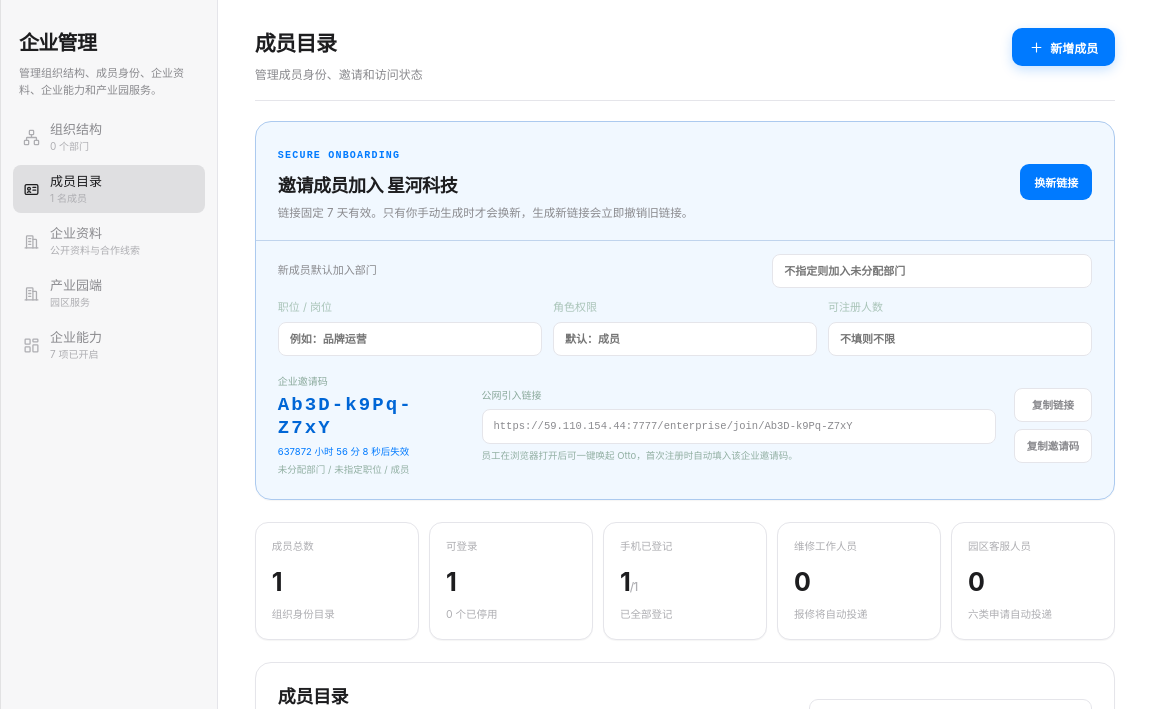
Scenario: 企业引入链接 › 管理员可复制完整链接或邀请码，并手动生成会立即替换旧链接
The image size is (1152, 709).
Check: the text "Ab3D-k9Pq-Z7xY" is shown, box [278, 394, 413, 439]
Step 1. Click the button with aria-label "复制完整引入链接" → (1053, 405), box [1014, 388, 1092, 422]
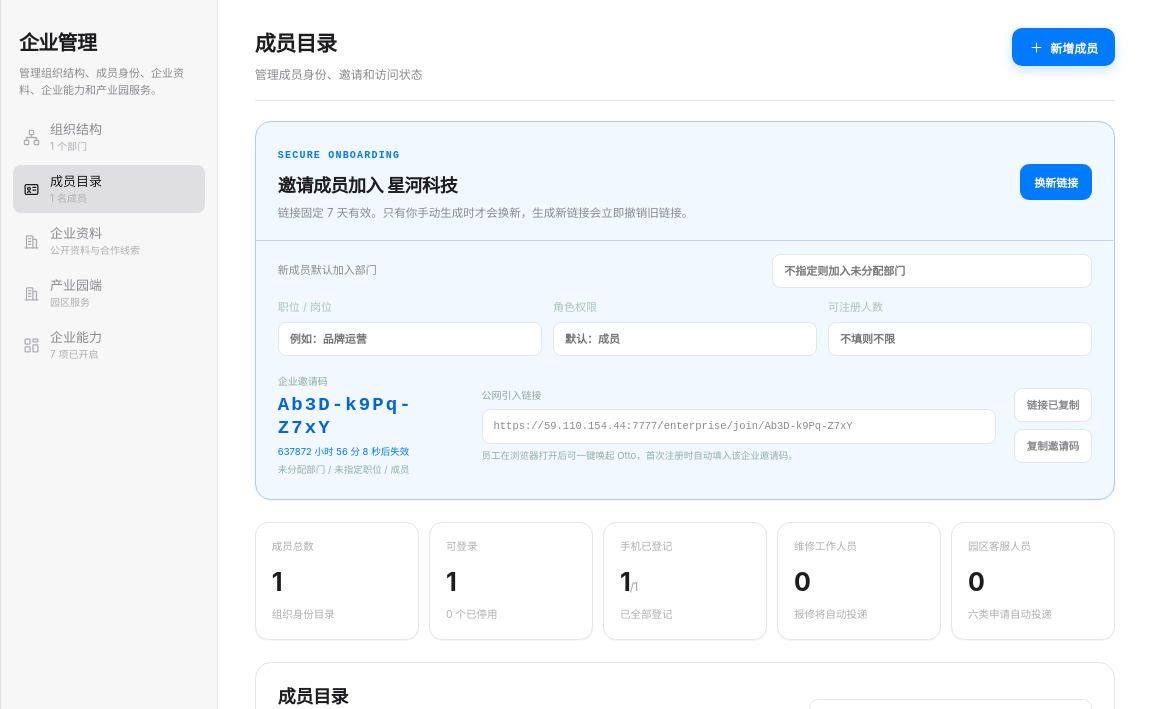
Step 2. Click the button with aria-label "复制企业邀请码" → (1053, 446), box [1014, 429, 1092, 463]
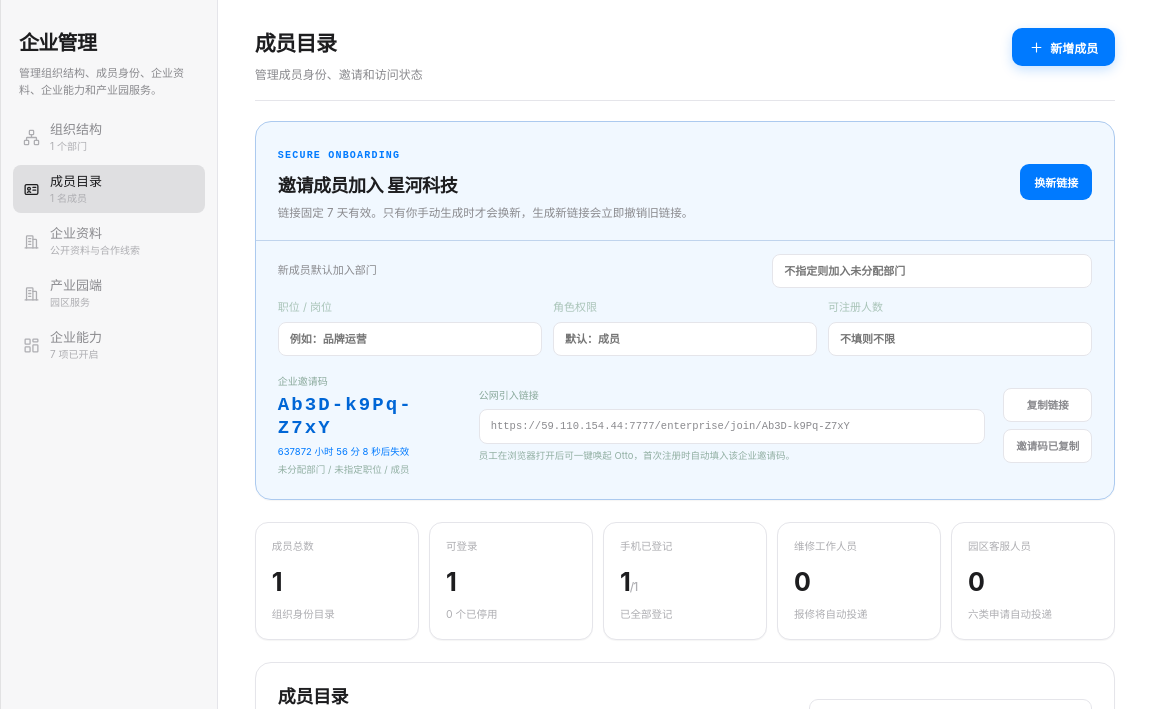
Step 3. Click the button with aria-label "生成新引入链接" → (1056, 182), box [1020, 164, 1092, 200]
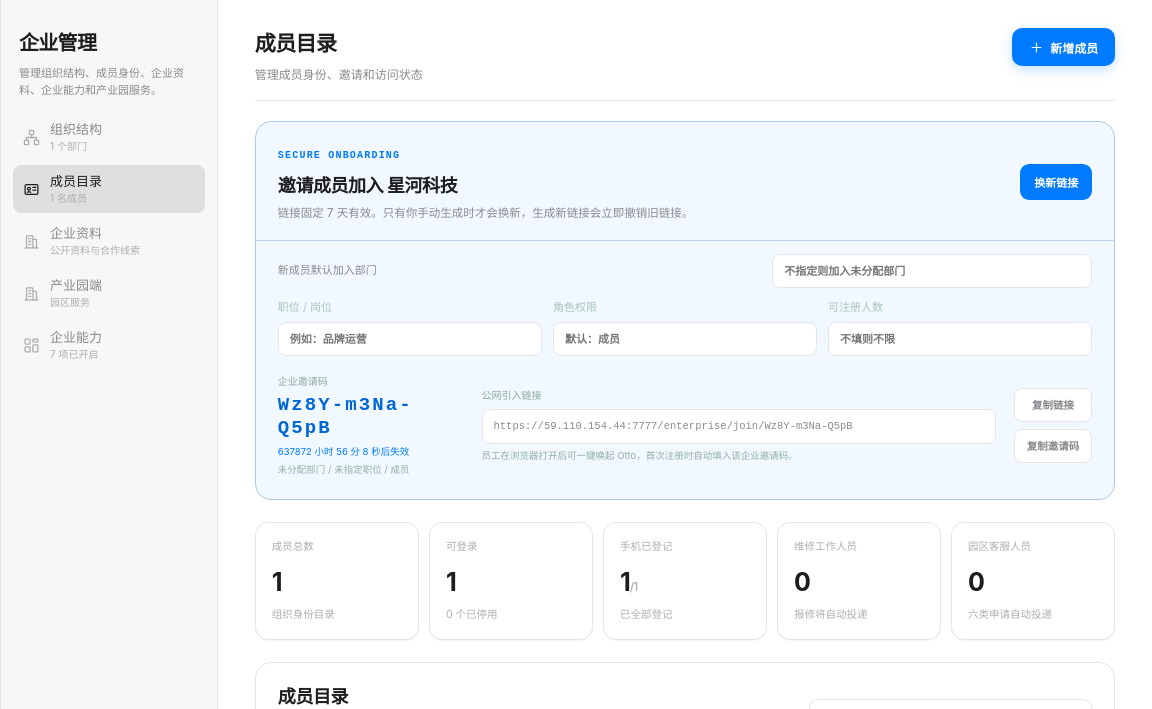
Check: the text "Wz8Y-m3Na-Q5pB" is shown, box [278, 394, 413, 439]
Check: the text "Ab3D-k9Pq-Z7xY" is gone
